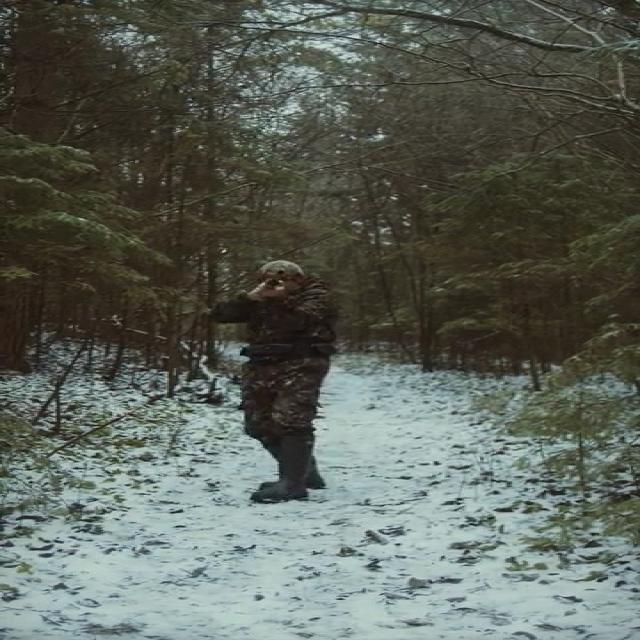Gun_Holder: (254, 271, 304, 294)
Person: (230, 258, 350, 503)
